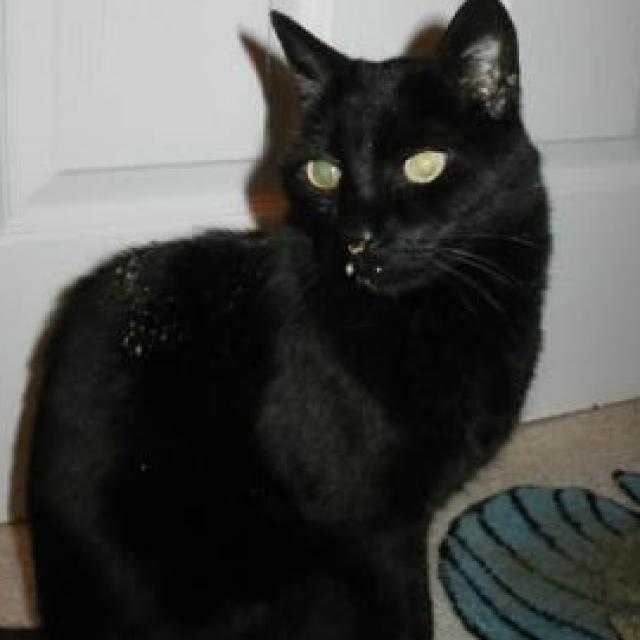Bombay: (19, 0, 548, 640)
